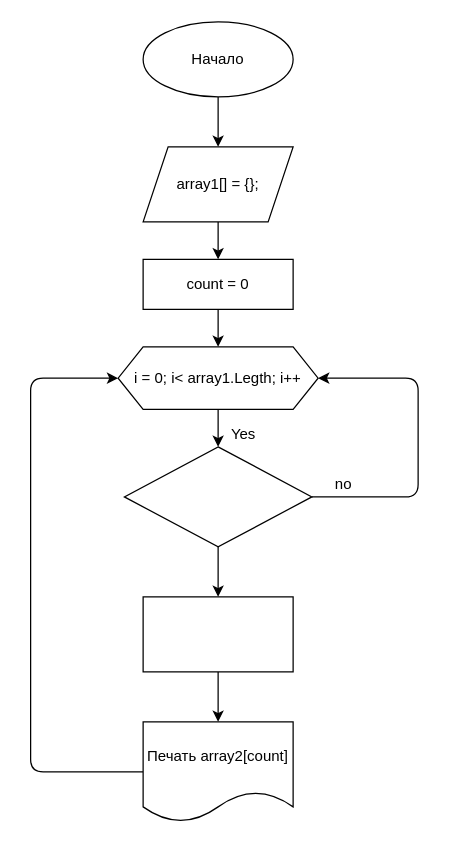
Image size: 450x844. Some labels were removed from this diagram. Here are the shapes that lost their labels. From the top down, the box of each, then its label:
(123, 446, 312, 547): if array[i].Length <= 3
(142, 596, 293, 672): array2[count] = array1[i]
